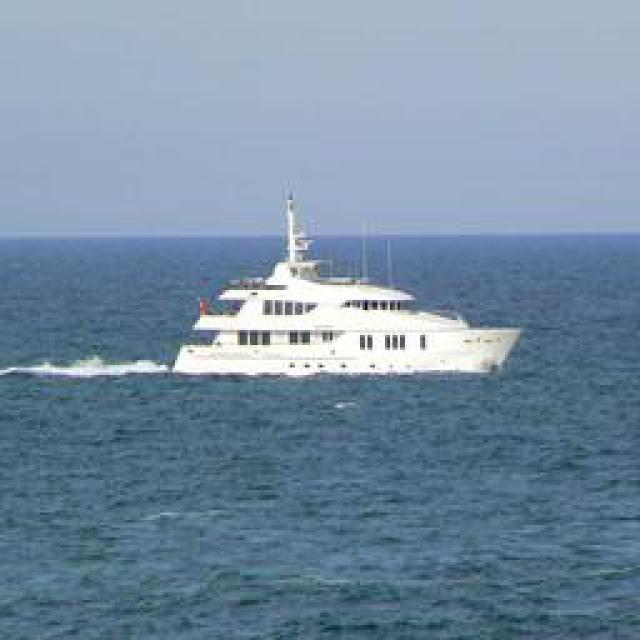Ship: (165, 188, 515, 383)
